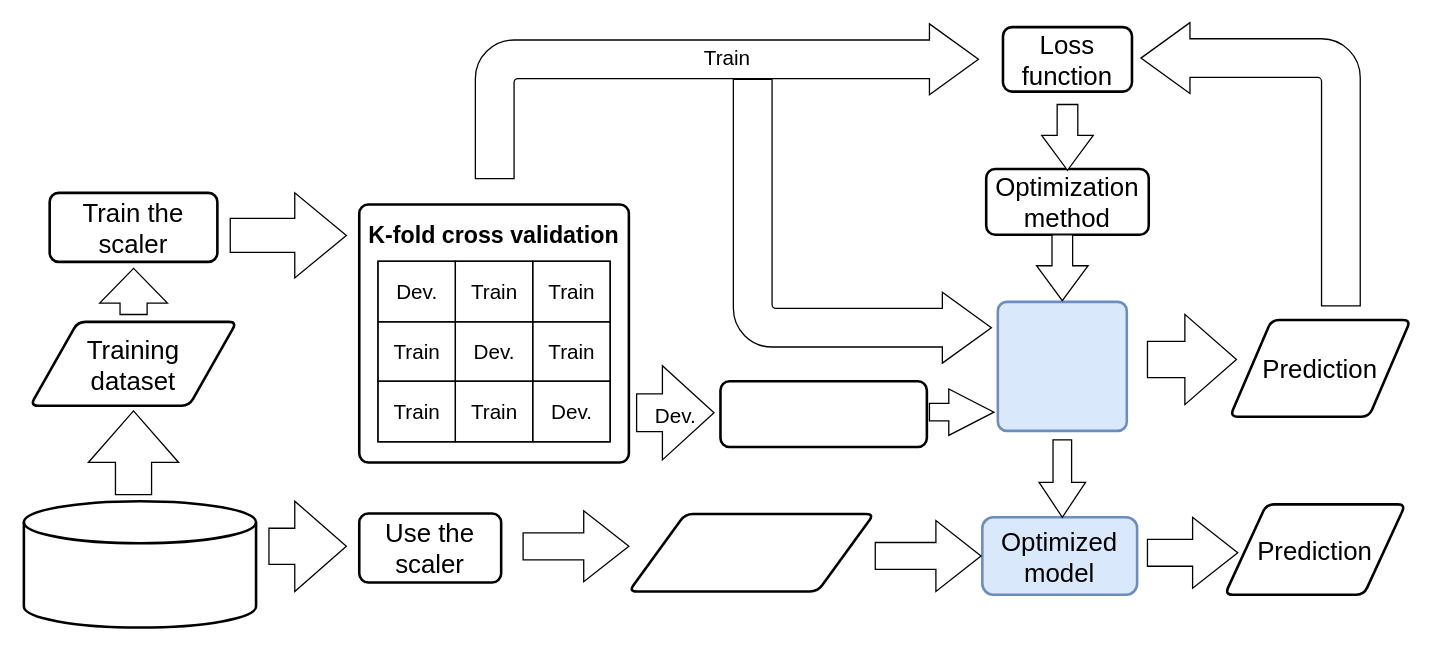
This 1433x651 diagram has some shape labels left out. The shapes that lost their labels are listed below. From the top down, each one's centre as x and y in pixels, then its label:
At point 1061,366: "Model".
At point 823,413: "Hyperparameter tunning".
At point 139,563: "Dataset".
At point 751,552: "Testing dataset".
